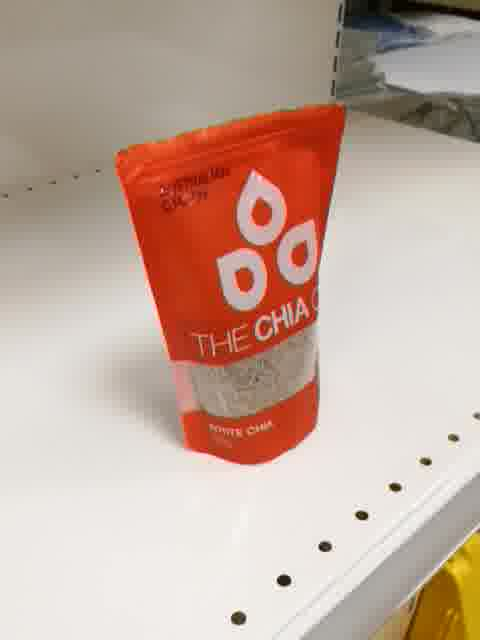whitechia: (113, 97, 346, 469)
